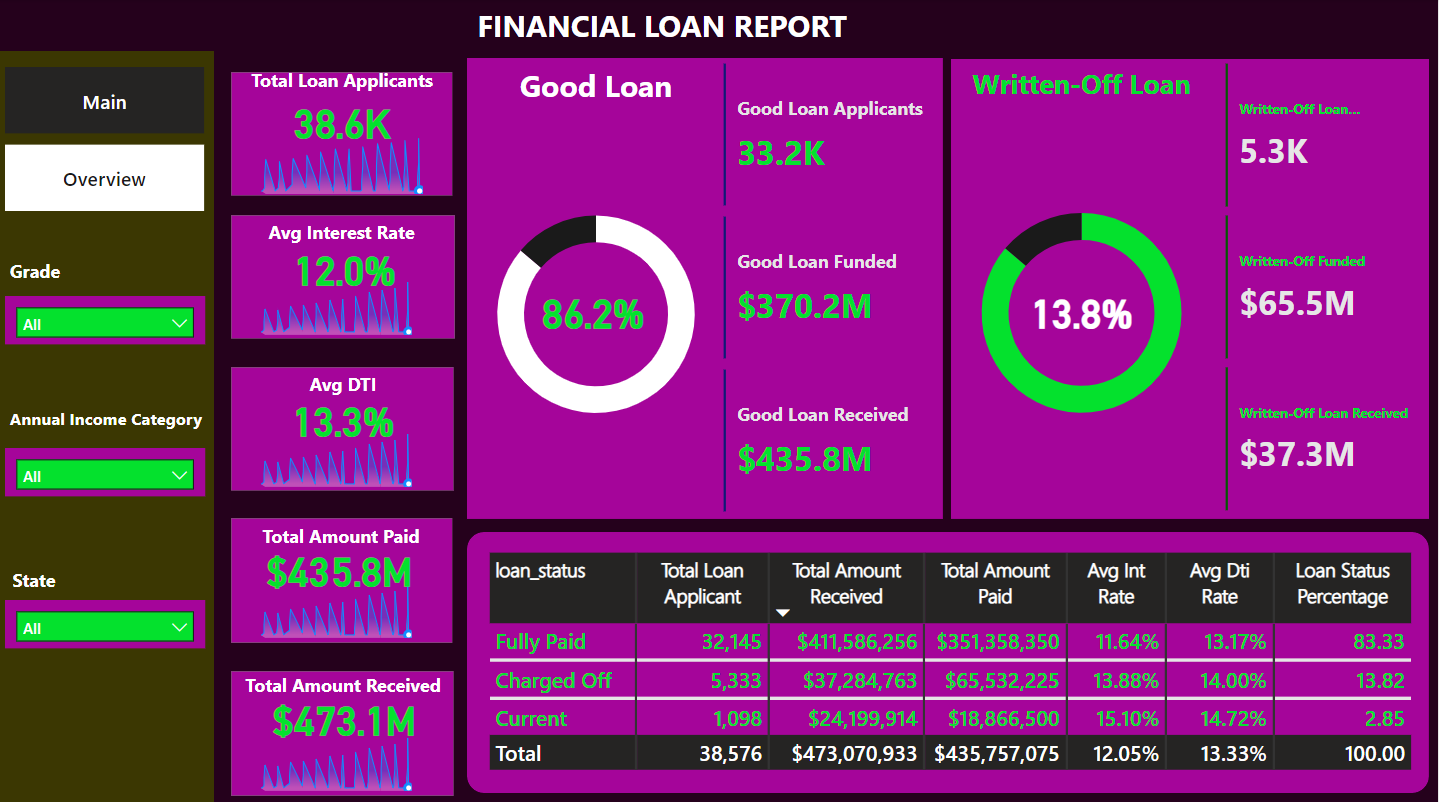

What the dashboard file says about the page in this screenshot:
{"tool":"powerbi","page":{"name":"Main","canvas":[1280,720],"ordinal":0},"visuals":[{"type":"shape","box":[0,46.2,192,673.8],"z":0},{"type":"cardVisual","fields":{"Data":["Loan.Avg Int Sparkline"]},"box":[202.7,187.3,208,119.1],"z":1000},{"type":"shape","box":[416.9,473.8,855.1,232],"z":1000,"group":"g4"},{"type":"cardVisual","fields":{"Data":["Loan.Total Amount Paid"]},"box":[202.7,457.1,206.2,120],"z":2000},{"type":"shape","box":[0,0,1280,46.2],"z":3000},{"type":"cardVisual","fields":{"Data":["Loan.Avg DTI Sparkline"]},"box":[202.7,322.2,207.8,119.1],"z":3000,"group":"g3"},{"type":"textbox","box":[416.9,0,346.7,46.2],"z":4000},{"type":"tableEx","fields":{"Values":["Loan.loan_status","Loan.Total Loan Applicant","Loan.Total Amount Received","Loan.Total Amount Paid","Loan.Avg Int Rate","Date Table.Avg Dti Rate","Loan.Loan Status Percentage"]},"box":[431.2,487.3,839.1,209.8],"z":4000,"group":"g4"},{"type":"group","id":"g1","title":"Group 2","box":[202.7,592.9,208,120],"z":5000},{"type":"cardVisual","fields":{"Data":["Loan.Total Loan Applicant"]},"box":[202.7,60.4,206.2,119.1],"z":6000,"group":"g7"},{"type":"textbox","box":[208.3,190.9,194.9,50.7],"z":6000,"group":"g8"},{"type":"card","fields":{"Values":["Date Table.Avg Dti Rate"]},"box":[209,342.9,195.6,60.4],"z":6000,"group":"g3"},{"type":"group","id":"g2","title":"Group 3","box":[207.1,461.3,195.6,78.2],"z":6000},{"type":"card","fields":{"Values":["Loan.Total Amount Paid"]},"box":[208,473.9,190.7,65.7],"z":6000,"group":"g2"},{"type":"shape","box":[847.1,53.4,424.9,408.8],"z":7000},{"type":"textbox","box":[209,326.2,195.5,62.1],"z":7000,"group":"g3"},{"type":"shape","box":[416.9,52.4,423.1,409.7],"z":8000,"group":"g5"},{"type":"card","fields":{"Values":["Loan.Avg Int Rate"]},"box":[208,200,200,77.3],"z":8000,"group":"g8"},{"type":"slicer","fields":{"Values":["Loan.address_state"]},"box":[6.2,534.2,177.8,42.7],"z":8000},{"type":"card","fields":{"Values":["Loan.Total Loan Applicant"]},"box":[208.9,80.9,193.8,55.1],"z":9000,"group":"g7"},{"type":"donutChart","fields":{"Category":["Loan.Good vs Bad Loan"],"Y":["Loan.Total Loan Applicant"]},"box":[416.9,98.1,229.3,364.9],"z":9000,"group":"g5"},{"type":"textbox","box":[207.1,461.3,195.6,50.5],"z":9000,"group":"g2"},{"type":"textbox","box":[0,500.4,64,32.9],"z":9000},{"type":"cardVisual","fields":{"Data":["Loan.Loan Received Sparkline"]},"box":[202.7,592.9,208,120],"z":9000,"group":"g1"},{"type":"textbox","box":[847.1,53.4,232.1,54.2],"z":10000,"group":"g6"},{"type":"group","id":"g3","title":"Group 5","box":[202.7,322.2,207.8,119.1],"z":10000},{"type":"textbox","box":[202.7,593.8,208,50.4],"z":10000,"group":"g1"},{"type":"textbox","box":[208.9,56,193.8,56],"z":11000,"group":"g7"},{"type":"donutChart","fields":{"Category":["Loan.Good vs Bad Loan"],"Y":["Loan.Total Loan Applicant"]},"box":[847.1,97.1,232.1,364.1],"z":11000,"group":"g6"},{"type":"group","id":"g4","title":"Group 8","box":[416.9,473.8,855.1,232],"z":11000},{"type":"card","fields":{"Values":["Loan.Total Amoun Received"]},"box":[206.4,606.3,202.8,65.5],"z":11000,"group":"g1"},{"type":"card","fields":{"Values":["Loan.Bad Loan %"]},"box":[899.5,238.2,127.1,77.3],"z":12000,"group":"g6"},{"type":"slicer","fields":{"Values":["Loan.Income Category"]},"box":[6.2,399.1,177.8,42.7],"z":12000},{"type":"textbox","box":[0,357.3,192,40.9],"z":13000},{"type":"textbox","box":[416.9,53.4,229.3,54.3],"z":14000,"group":"g5"},{"type":"slicer","fields":{"Values":["Loan.grade"]},"box":[6.2,264,177.8,42.7],"z":14000},{"type":"textbox","box":[0,225.8,65.8,38.2],"z":15000},{"type":"pageNavigator","box":[6.2,60.4,177.8,128.9],"z":16000},{"type":"card","fields":{"Values":["Loan.Good Loan %"]},"box":[467.6,238.2,122.7,78.2],"z":16000,"group":"g5"},{"type":"group","id":"g5","title":"Group 6","box":[416.9,52.4,423.1,410.7],"z":17000},{"type":"cardVisual","fields":{"Data":["Loan.Good Loan Applicant","Loan.Good Loan Funded","Loan.Good Loan Received"]},"box":[640,52.4,200,409.8],"z":18000,"group":"g5"},{"type":"group","id":"g6","title":"Group 7","box":[847.1,52.4,424.9,408.9],"z":18000},{"type":"cardVisual","fields":{"Data":["Loan.Written-Off Loan Applicant","Loan.Written-Off Funded","Loan.Written-Off Loan Received"]},"box":[1086.2,52.4,185.8,408.9],"z":19000,"group":"g6"},{"type":"group","id":"g7","title":"Group 1","box":[202.7,56,206.2,123.6],"z":19000},{"type":"group","id":"g8","title":"Group 4","box":[208,190.9,200,86.4],"z":20000}]}

Visuals, with their boxes in screenshot pixels (x1, y1, x2, y2), scaled from the page's 1280x720 canvas onto the 1439x802 screenshot:
shape: (0, 51, 216, 801)
cardVisual - Loan.Avg Int Sparkline: (228, 209, 462, 341)
shape: (469, 528, 1430, 786)
cardVisual - Loan.Total Amount Paid: (228, 509, 460, 643)
shape: (0, 0, 1438, 51)
cardVisual - Loan.Avg DTI Sparkline: (228, 359, 461, 492)
textbox: (469, 0, 858, 51)
tableEx - Loan.loan_status x Loan.Total Loan Applicant: (485, 543, 1428, 776)
"Group 2" group: (228, 660, 462, 794)
cardVisual - Loan.Total Loan Applicant: (228, 67, 460, 200)
textbox: (234, 213, 453, 269)
card - Date Table.Avg Dti Rate: (235, 382, 455, 449)
"Group 3" group: (233, 514, 453, 601)
card - Loan.Total Amount Paid: (234, 528, 448, 601)
shape: (952, 59, 1430, 515)
textbox: (235, 363, 455, 433)
shape: (469, 58, 944, 515)
card - Loan.Avg Int Rate: (234, 223, 459, 309)
slicer - Loan.address_state: (7, 595, 207, 643)
card - Loan.Total Loan Applicant: (235, 90, 453, 151)
donutChart - Loan.Good vs Bad Loan x Loan.Total Loan Applicant: (469, 109, 726, 516)
textbox: (233, 514, 453, 570)
textbox: (0, 557, 72, 594)
cardVisual - Loan.Loan Received Sparkline: (228, 660, 462, 794)
textbox: (952, 59, 1213, 120)
"Group 5" group: (228, 359, 461, 492)
textbox: (228, 661, 462, 718)
textbox: (235, 62, 453, 125)
donutChart - Loan.Good vs Bad Loan x Loan.Total Loan Applicant: (952, 108, 1213, 514)
"Group 8" group: (469, 528, 1430, 786)
card - Loan.Total Amoun Received: (232, 675, 460, 748)
card - Loan.Bad Loan %: (1011, 265, 1154, 351)
slicer - Loan.Income Category: (7, 445, 207, 492)
textbox: (0, 398, 216, 444)
textbox: (469, 59, 726, 120)
slicer - Loan.grade: (7, 294, 207, 342)
textbox: (0, 252, 74, 294)
pageNavigator: (7, 67, 207, 211)
card - Loan.Good Loan %: (526, 265, 664, 352)
"Group 6" group: (469, 58, 944, 516)
cardVisual - Loan.Good Loan Applicant x Loan.Good Loan Funded: (720, 58, 944, 515)
"Group 7" group: (952, 58, 1430, 514)
cardVisual - Loan.Written-Off Loan Applicant x Loan.Written-Off Funded: (1221, 58, 1430, 514)
"Group 1" group: (228, 62, 460, 200)
"Group 4" group: (234, 213, 459, 309)
